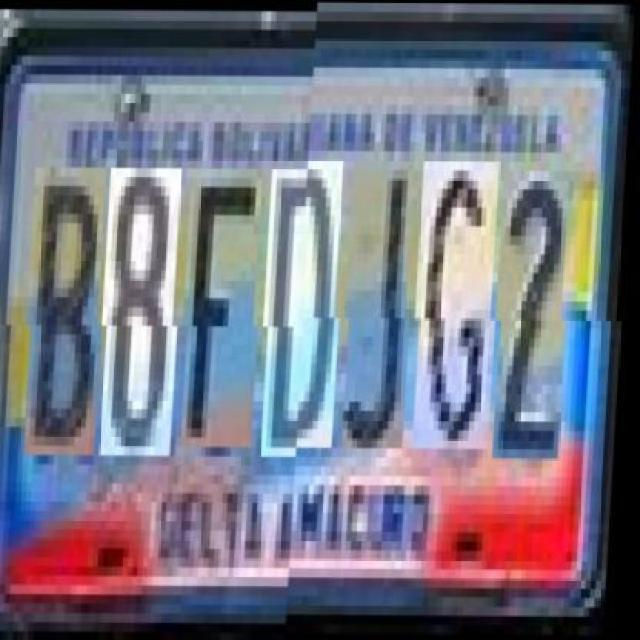2: (497, 179, 577, 467)
8: (105, 168, 188, 455)
b: (29, 167, 113, 455)
d: (265, 169, 350, 456)
f: (186, 168, 269, 448)
g: (417, 170, 506, 458)
j: (347, 169, 421, 457)
